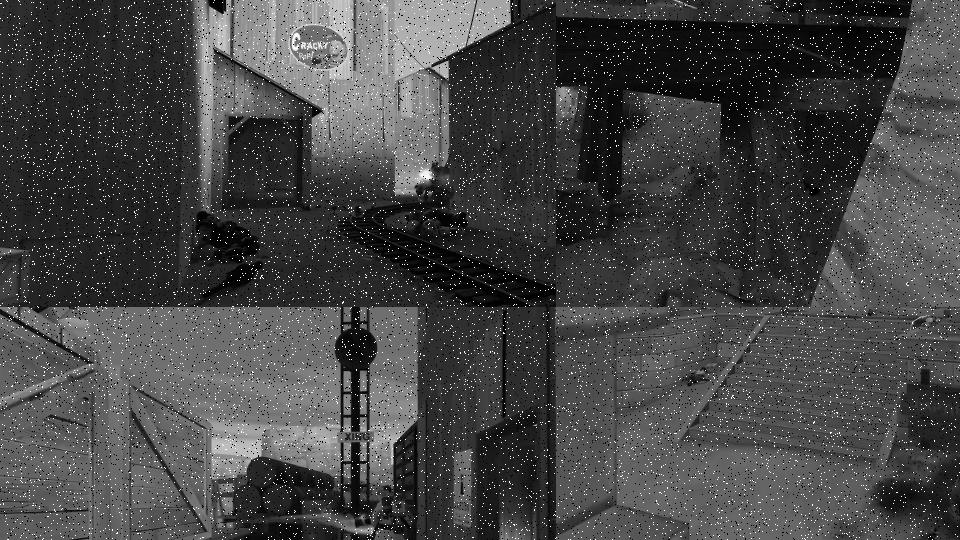Enemy: (190, 207, 262, 265), (354, 484, 416, 540), (404, 203, 473, 244), (910, 314, 943, 331), (685, 367, 712, 387)
